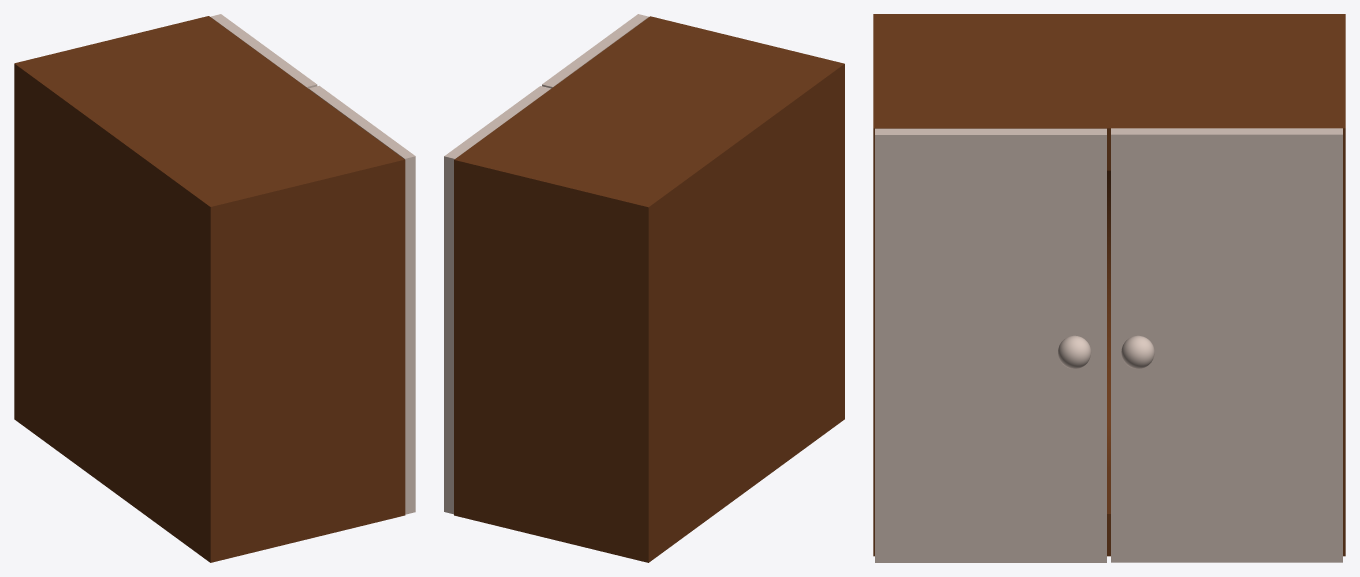
Rendered from MobleCubParet.fbx.
3 views of the same model, side by side, from view 1: azimuth 30°, elevation 25°; view 2: azimuth 150°, elevation 25°; view 3: azimuth 270°, elevation 25° (orthographic). The views are drawn at different scales.
Parts seen in each view (by area): view 1: Caixa, Porta1, Porta2; view 2: Caixa, Porta2, Porta1; view 3: Porta2, Porta1, Caixa, Pom2, Pom1.
Boxes of the visible parts, x1=… form: Caixa: x1=14, y1=16, x2=405, y2=562; Porta1: x1=308, y1=85, x2=415, y2=514; Porta2: x1=210, y1=14, x2=317, y2=88; Caixa: x1=454, y1=16, x2=844, y2=562; Porta2: x1=444, y1=86, x2=550, y2=514; Porta1: x1=542, y1=14, x2=648, y2=88; Porta2: x1=1111, y1=128, x2=1342, y2=562; Porta1: x1=875, y1=128, x2=1106, y2=562; Caixa: x1=873, y1=14, x2=1345, y2=556; Pom2: x1=1121, y1=335, x2=1154, y2=368; Pom1: x1=1058, y1=335, x2=1091, y2=368.
Bounding box in the file's own units: 132 × 200 × 200.
